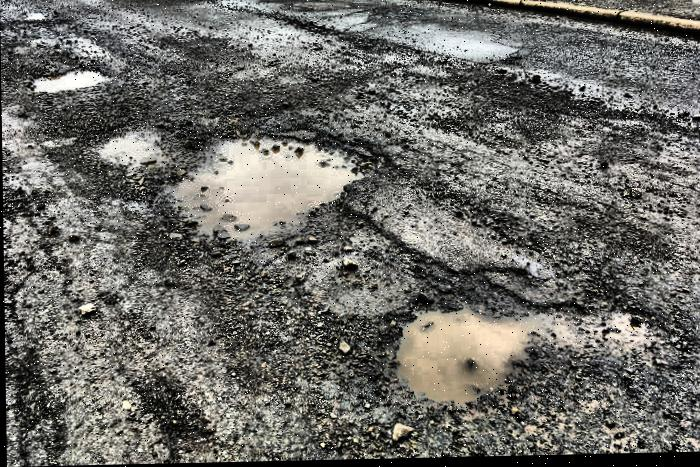pothole: (387, 294, 640, 413), (172, 127, 372, 254), (96, 129, 161, 172), (29, 65, 110, 96)
